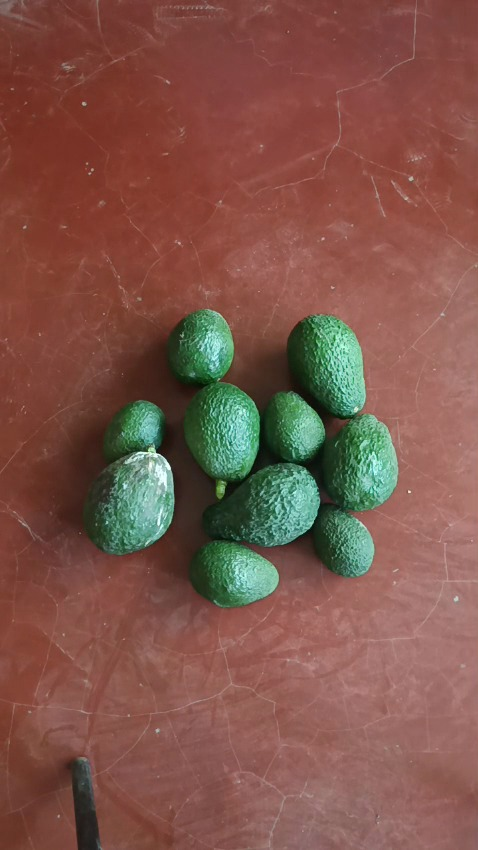Primera: (82, 448, 176, 553), (202, 464, 320, 547), (286, 314, 366, 420), (183, 381, 262, 483), (321, 413, 398, 509)
Segunda: (188, 541, 279, 607), (166, 308, 234, 384)
Tercera: (261, 390, 326, 465), (311, 502, 375, 577), (102, 399, 167, 462)
